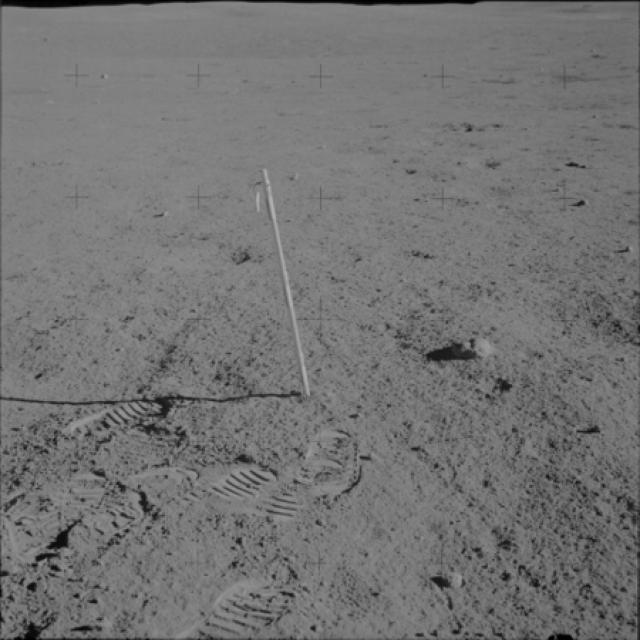rock: (440, 322, 495, 368), (440, 560, 469, 596)
